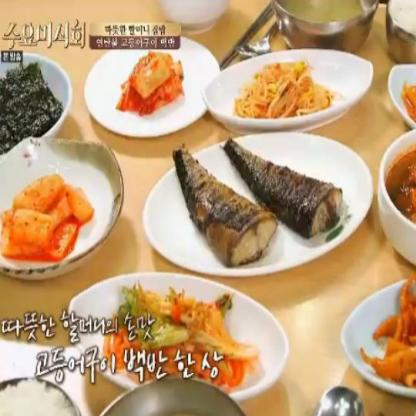Peixe: (143, 130, 346, 255)
